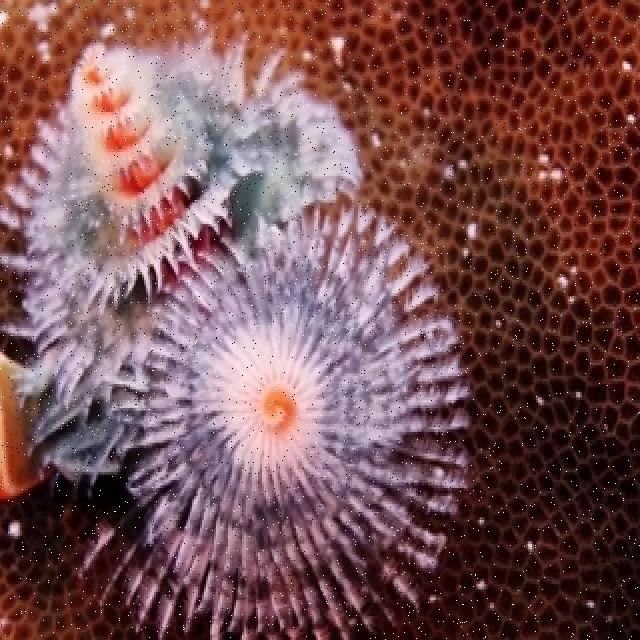fish: (0, 349, 58, 499)
reefs: (0, 0, 638, 637)
